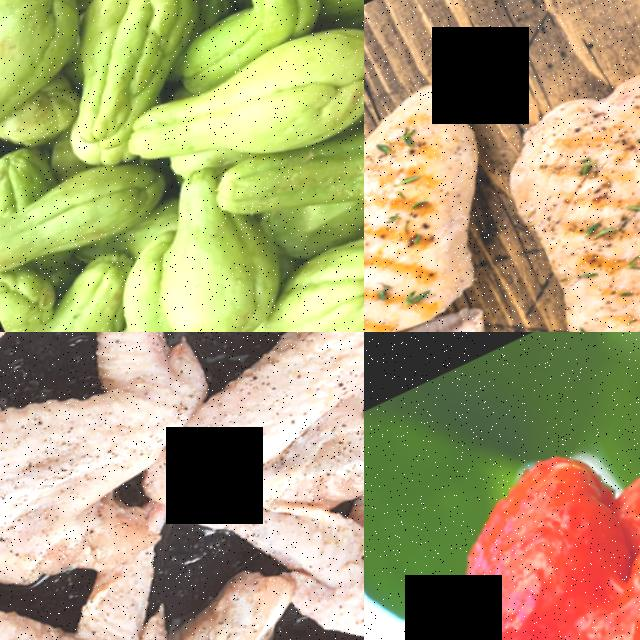chayote: (124, 0, 364, 212), (115, 148, 298, 332), (234, 43, 364, 274), (35, 0, 228, 134), (0, 142, 166, 293), (0, 0, 108, 140), (282, 213, 364, 332)
chicken wing: (75, 332, 364, 584), (0, 332, 250, 606), (0, 490, 260, 640), (0, 332, 309, 406)
